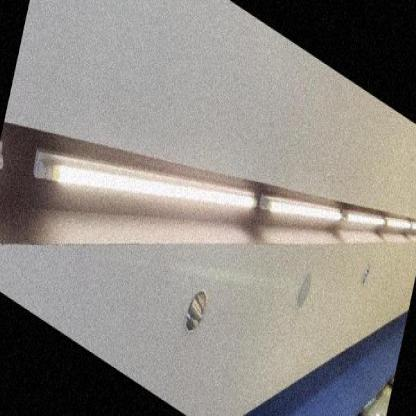light_on: (25, 51, 263, 328), (253, 153, 345, 265), (343, 192, 389, 248), (381, 205, 412, 240), (411, 214, 415, 240)
